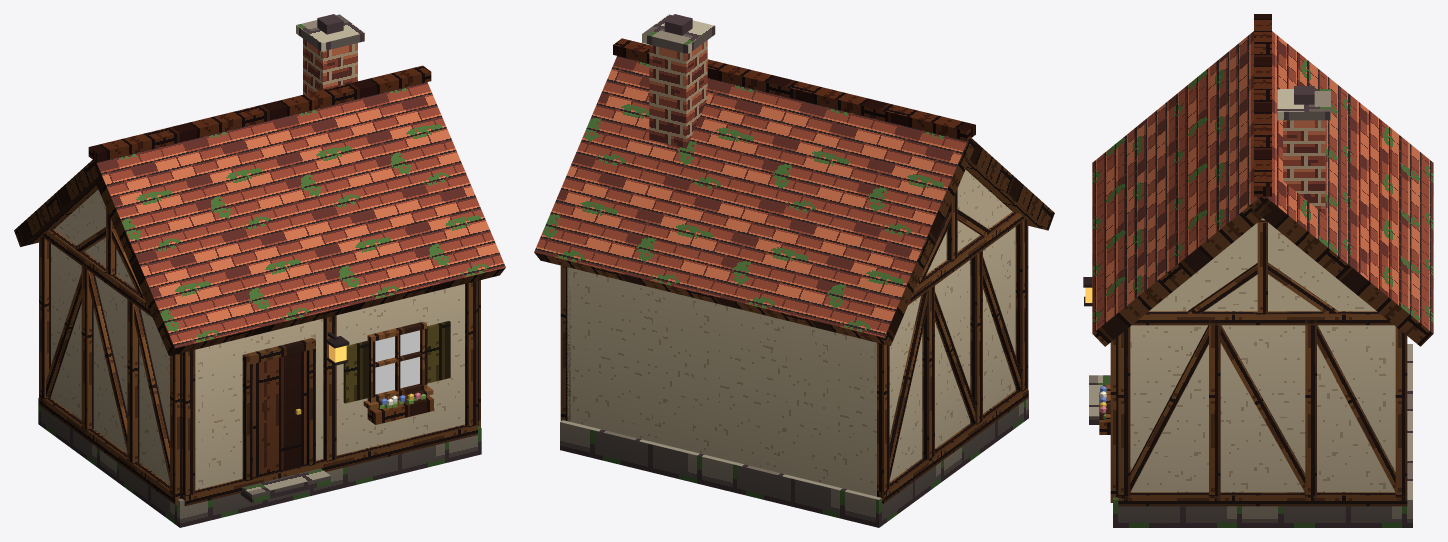
File: cottage_baker.glb
3 renders of one model, left to right at view 1: azimuth 30°, elevation 25°; view 2: azimuth 150°, elevation 25°; view 3: azimuth 270°, elevation 25°, orthographic. The views are drawn at different scales.
Visible parts, largest first — view 1: cottage_baker; view 2: cottage_baker; view 3: cottage_baker.
Boxes of the visible parts, bbox=[...] form: cottage_baker: bbox=[14, 14, 505, 527]; cottage_baker: bbox=[534, 14, 1054, 527]; cottage_baker: bbox=[1083, 14, 1433, 527].
Bounding box in the file's own units: 5.94 × 6.52 × 5.09.
8 materials, 5 textured.
